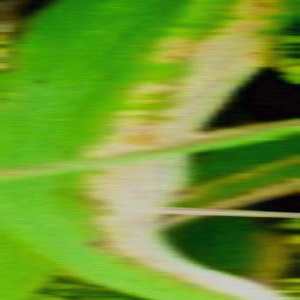Leaf_Blast: (7, 1, 230, 278)
